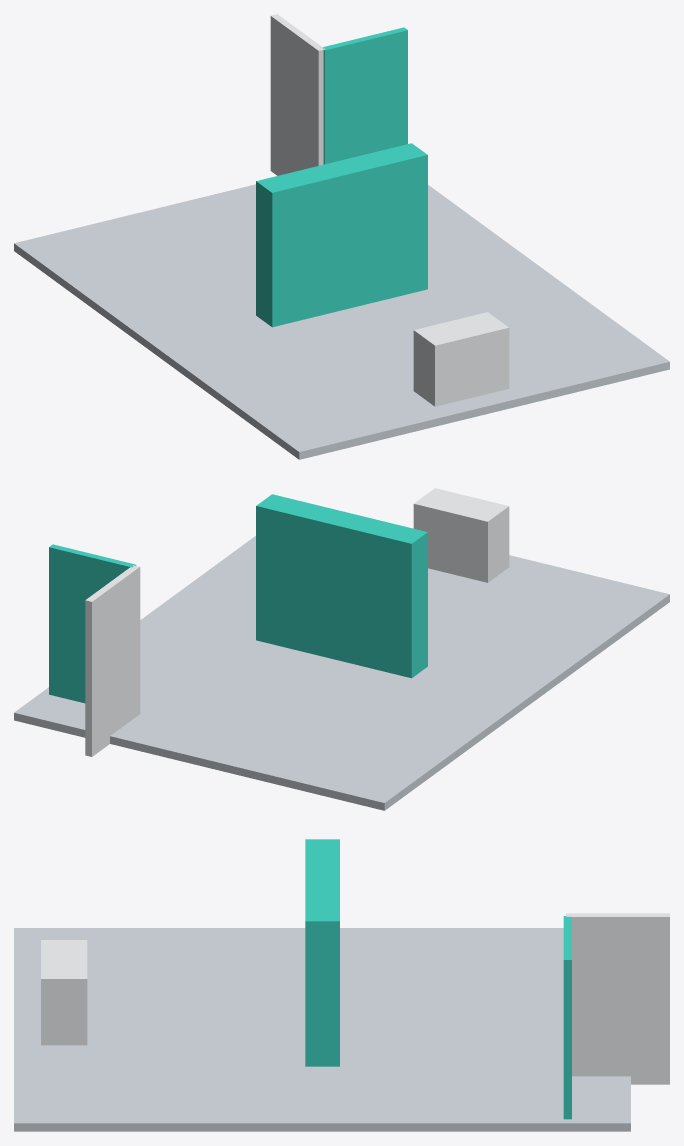
3 views of the same model, one above another, from view 1: azimuth 30°, elevation 25°; view 2: azimuth 150°, elevation 25°; view 3: azimuth 270°, elevation 25° (orthographic). The views are drawn at different scales.
Parts seen in each view (by area): view 1: Exhibition Booth Concept; view 2: Exhibition Booth Concept; view 3: Exhibition Booth Concept.
Boxes of the visible parts, x1,y1,x2,y2 form: Exhibition Booth Concept: [14, 14, 669, 459]; Exhibition Booth Concept: [14, 488, 669, 810]; Exhibition Booth Concept: [14, 839, 669, 1131].
Size of the model in its own units: 6 by 2.4 by 8.51.
